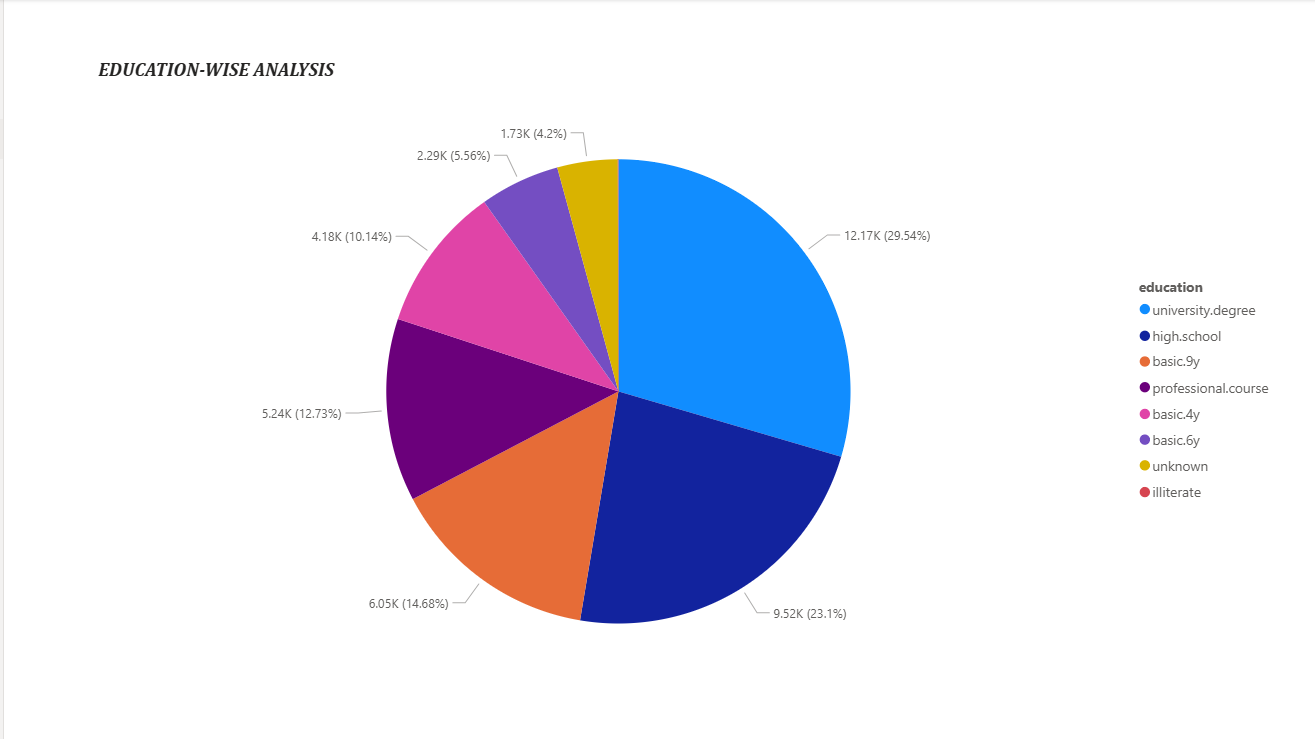

The dashboard page shown, as its layout file describes it:
{"tool":"powerbi","page":{"name":"Page 2","canvas":[1280,720],"ordinal":1},"visuals":[{"type":"pieChart","title":"EDUCATION-WISE ANALYSIS","fields":{"Category":["bank-additional-full.education"],"Y":["CountNonNull(bank-additional-full.y)"]},"box":[86.9,56,1158.1,628.5],"z":0}]}

Visuals, with their boxes in screenshot pixels (x1, y1, x2, y2), scaled from the page's 1280x720 canvas onto the 1315x739 screenshot:
"EDUCATION-WISE ANALYSIS" pieChart: 89,57,1279,703
